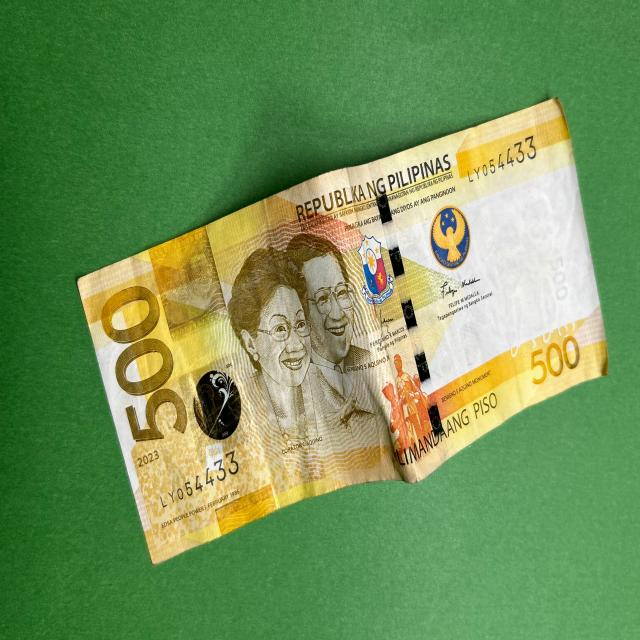concealed_value: (147, 225, 233, 339)
optically_variable_device: (176, 353, 257, 464)
security_thread: (353, 161, 458, 465)
see_through_mark: (505, 312, 576, 356)
serial_number: (457, 126, 562, 203), (147, 442, 244, 514)
value: (90, 273, 195, 461)
value_watermark: (544, 248, 579, 304)
watermark: (482, 172, 590, 350)
